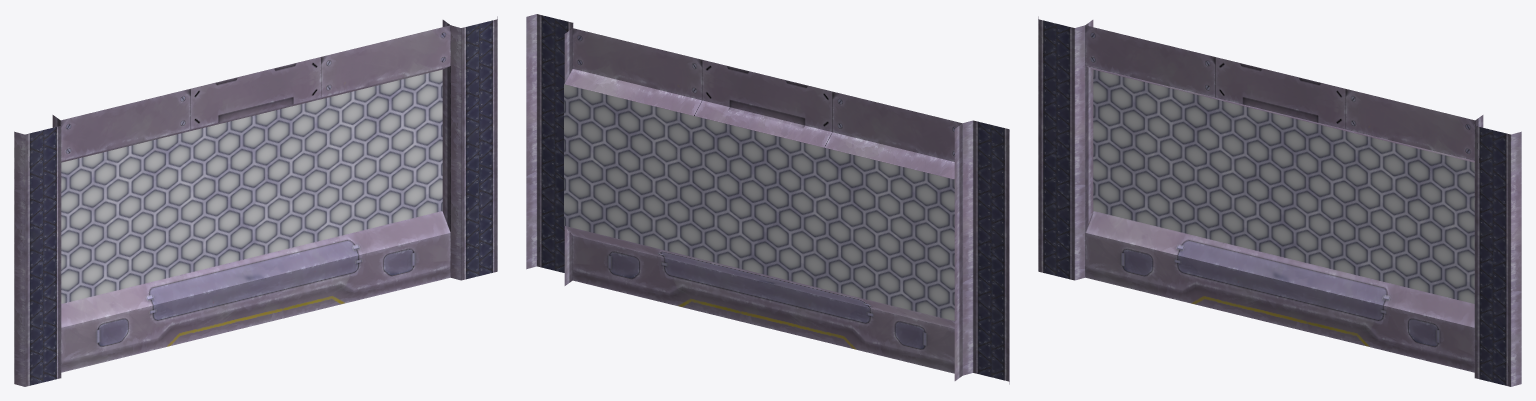
File: SM_TrimWall_04.fbx
3 renders of one model, left to right at view 1: azimuth 30°, elevation 25°; view 2: azimuth 150°, elevation 25°; view 3: azimuth 330°, elevation 25°, orthographic.
Parts seen in each view (by area): view 1: SM_TrimWall_04; view 2: SM_TrimWall_04; view 3: SM_TrimWall_04.
Boxes of the visible parts, x1,y1,x2,y2 form: SM_TrimWall_04: (14, 16, 497, 386); SM_TrimWall_04: (526, 14, 1009, 384); SM_TrimWall_04: (1038, 16, 1521, 386).
Bounding box in the file's own units: 400 × 200 × 19.7.
